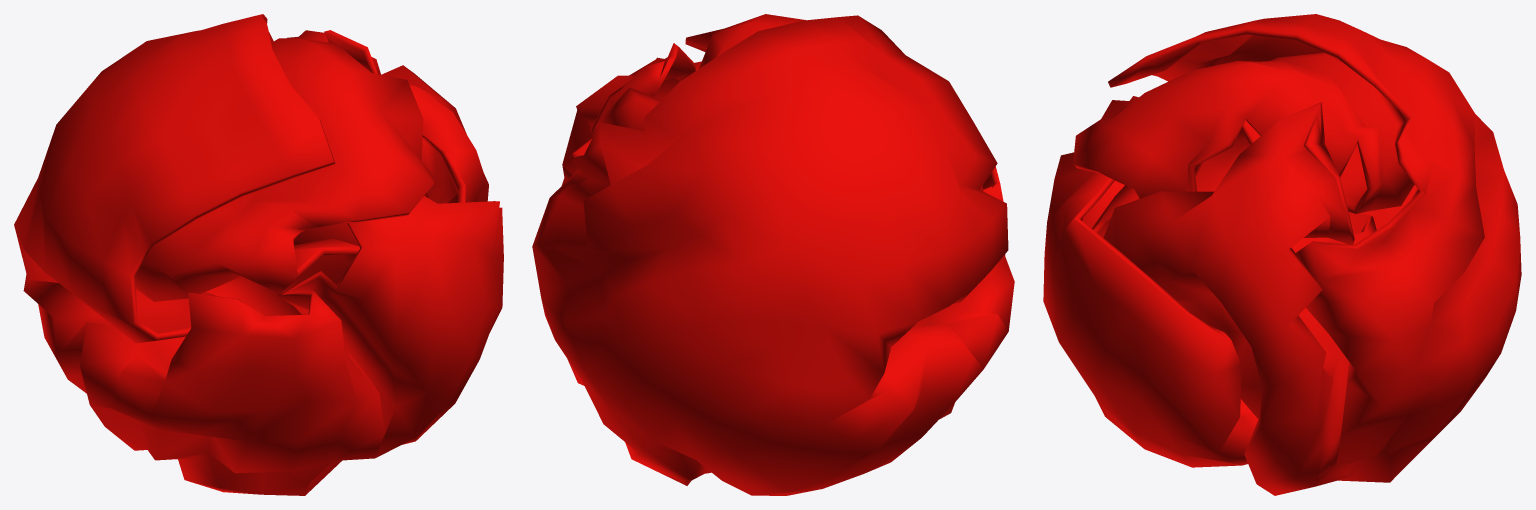
File: trash.glb
The picture shows the model from 3 angles, left to right: view 1: azimuth 30°, elevation 25°; view 2: azimuth 150°, elevation 25°; view 3: azimuth 270°, elevation 25°; orthographic projection.
Visible parts, largest first — view 1: Trash; view 2: Trash; view 3: Trash.
Part boxes in pixels (x1,y1,x2,y2): Trash: (14,14,503,495); Trash: (532,14,1014,495); Trash: (1043,14,1521,495).
Size of the model in its own units: 0.4633 by 0.4766 by 0.4739.
